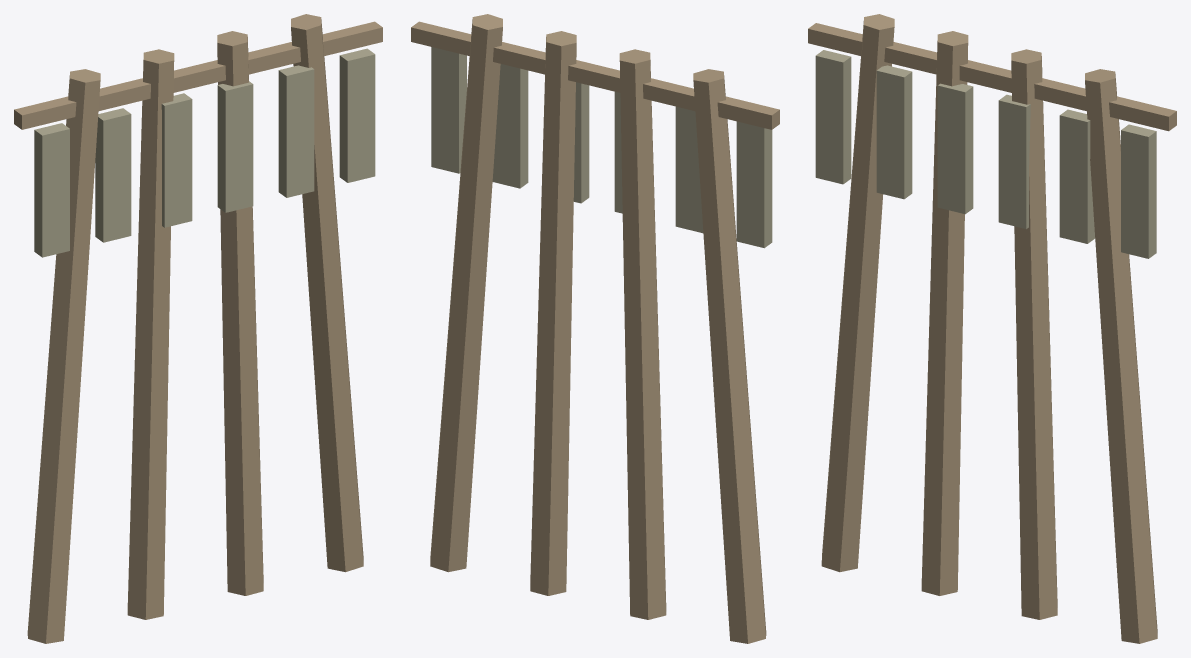
The model's file is trench-line-1917-drying-rack-a708f4f1__24052.glb.
3 views of the same model, side by side, from view 1: azimuth 30°, elevation 25°; view 2: azimuth 150°, elevation 25°; view 3: azimuth 330°, elevation 25° (orthographic).
Visible parts, largest first — view 1: drying-rack; view 2: drying-rack; view 3: drying-rack.
Part boxes in pixels (x1,y1,x2,y2): drying-rack: (14,14,382,643); drying-rack: (411,14,779,643); drying-rack: (808,14,1176,643).
Bounding box in the file's own units: 1.3 × 1.91 × 0.1213.
